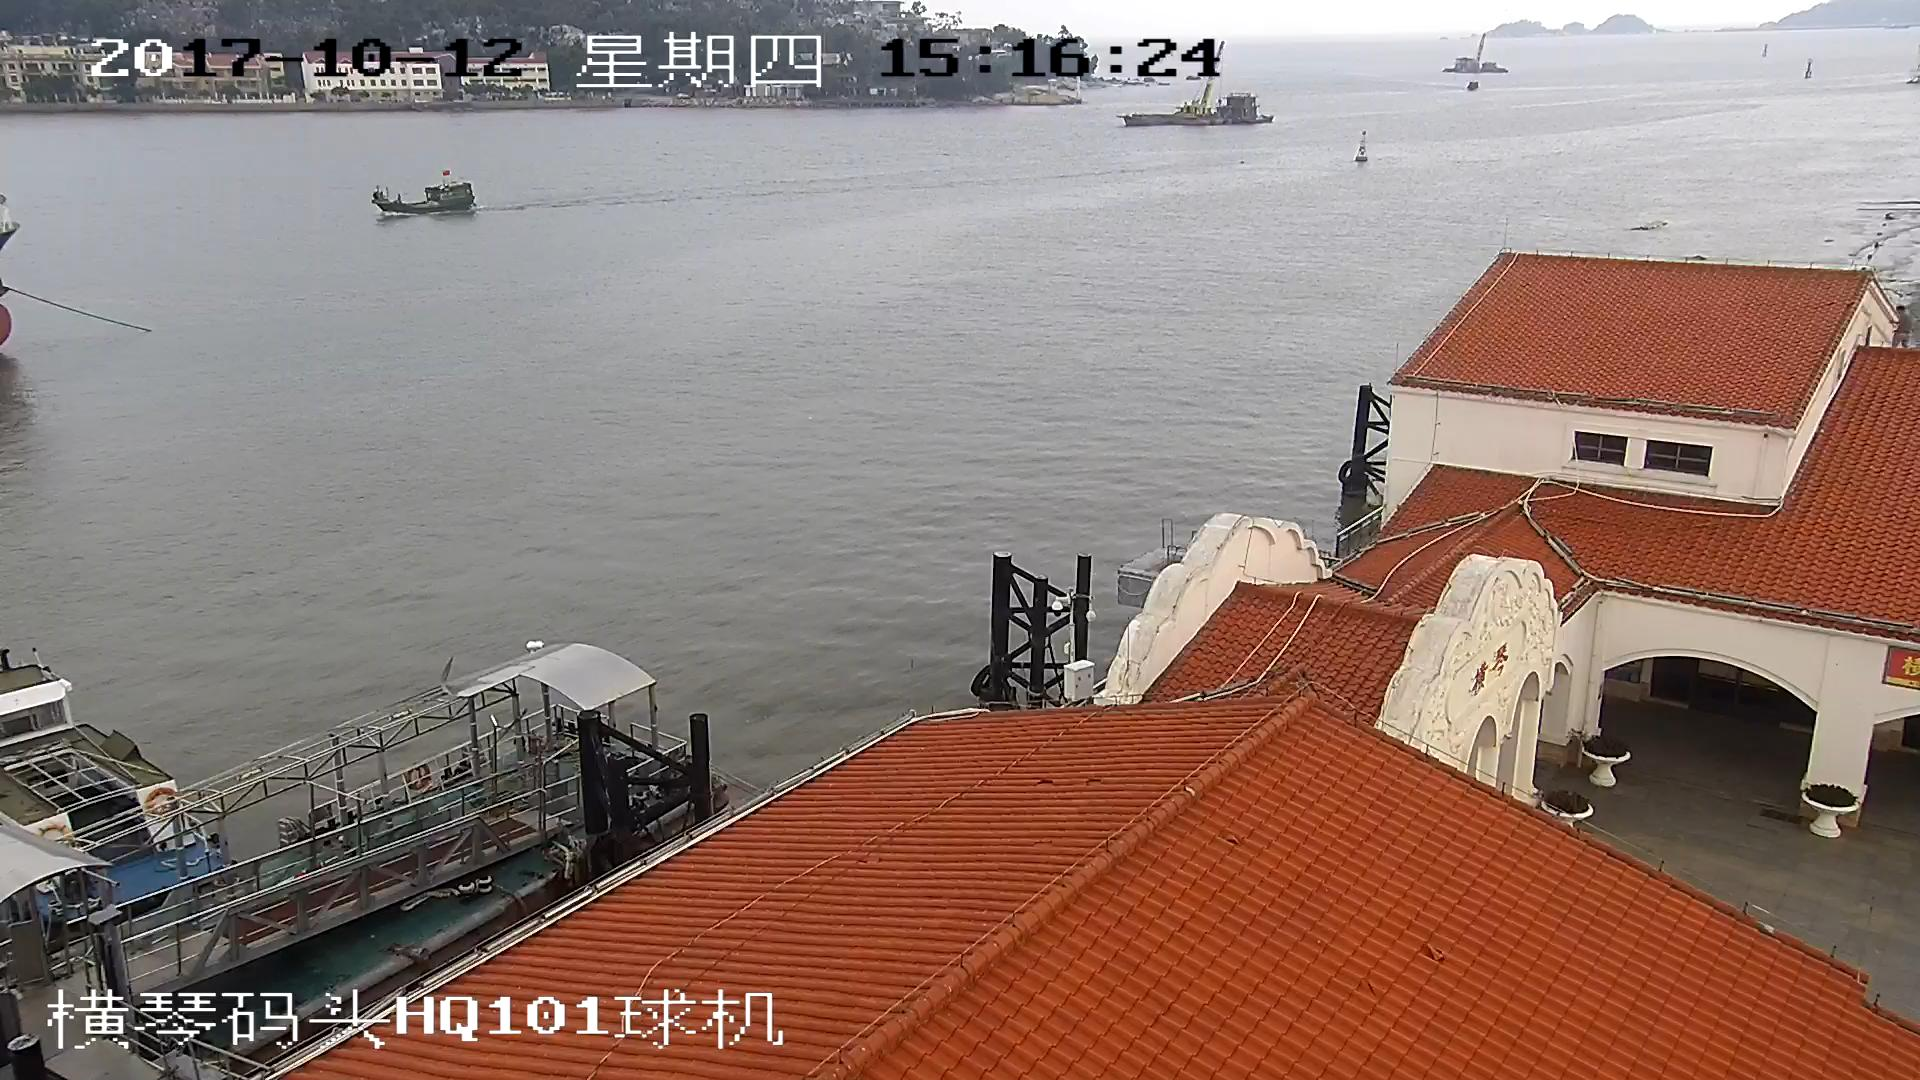fishing boat: (368, 183, 472, 217)
